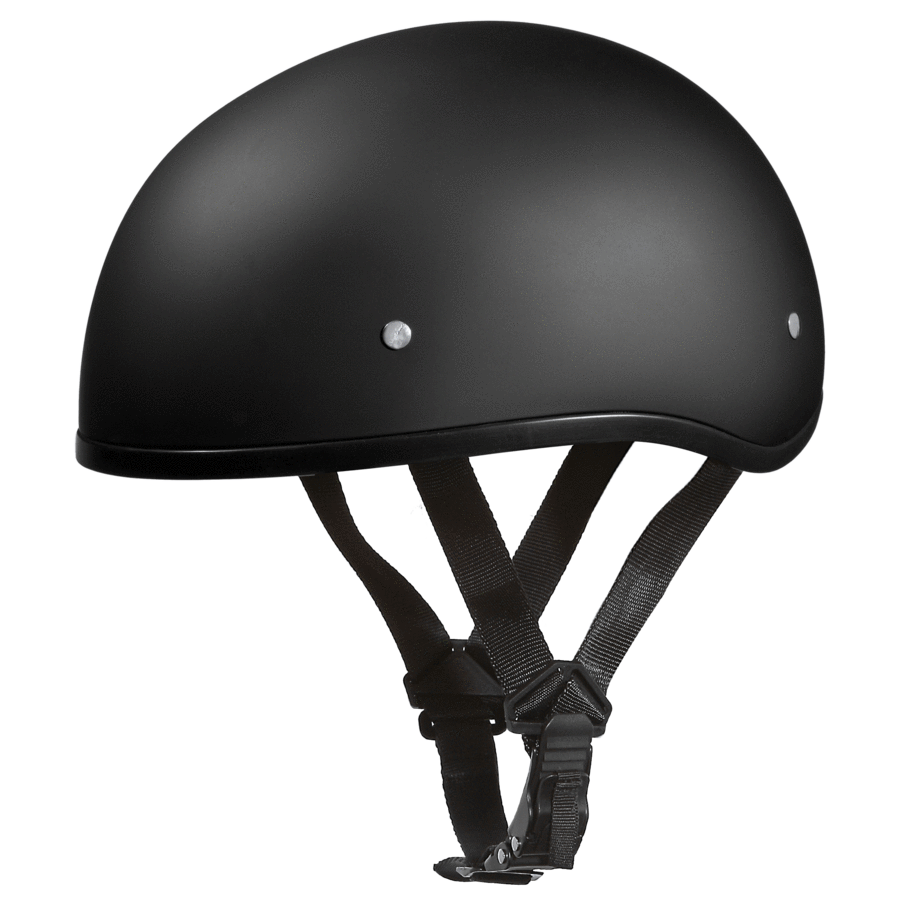with_helmet: (68, 16, 840, 888)
